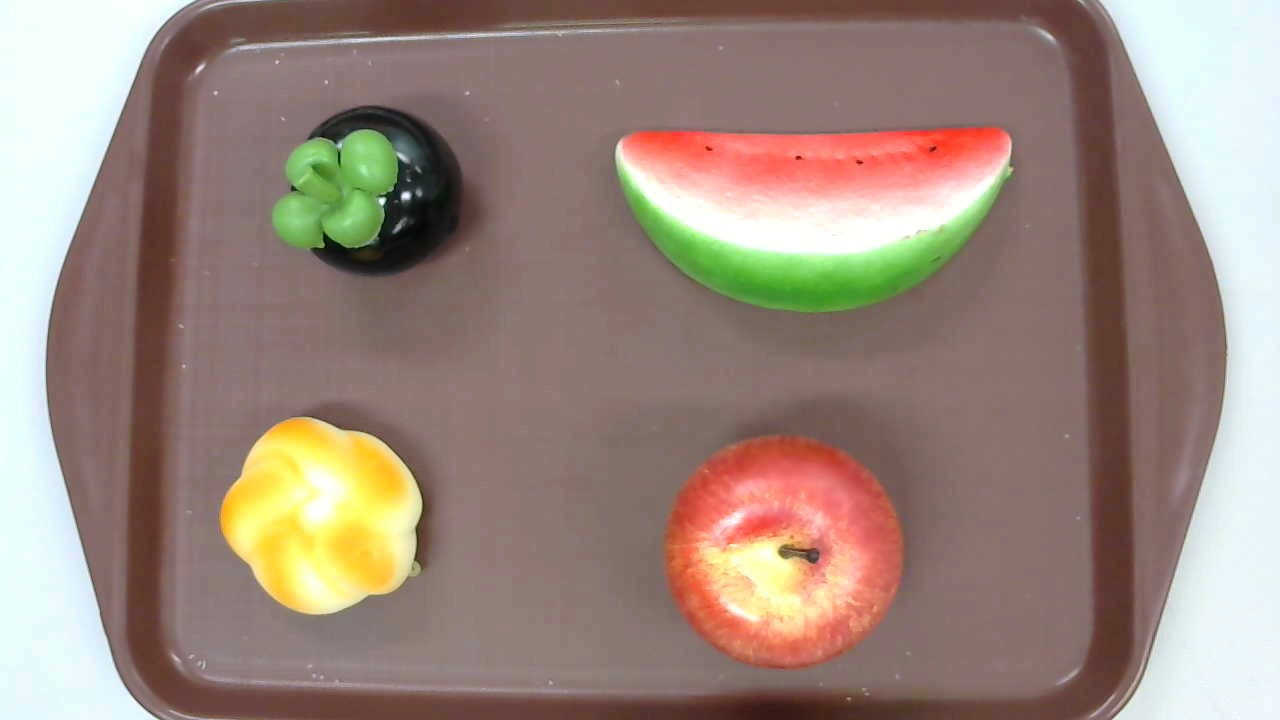mangosteen: (271, 106, 465, 277)
red apple: (660, 432, 906, 676)
twist bread: (219, 416, 424, 618)
water melon: (614, 124, 1013, 316)
